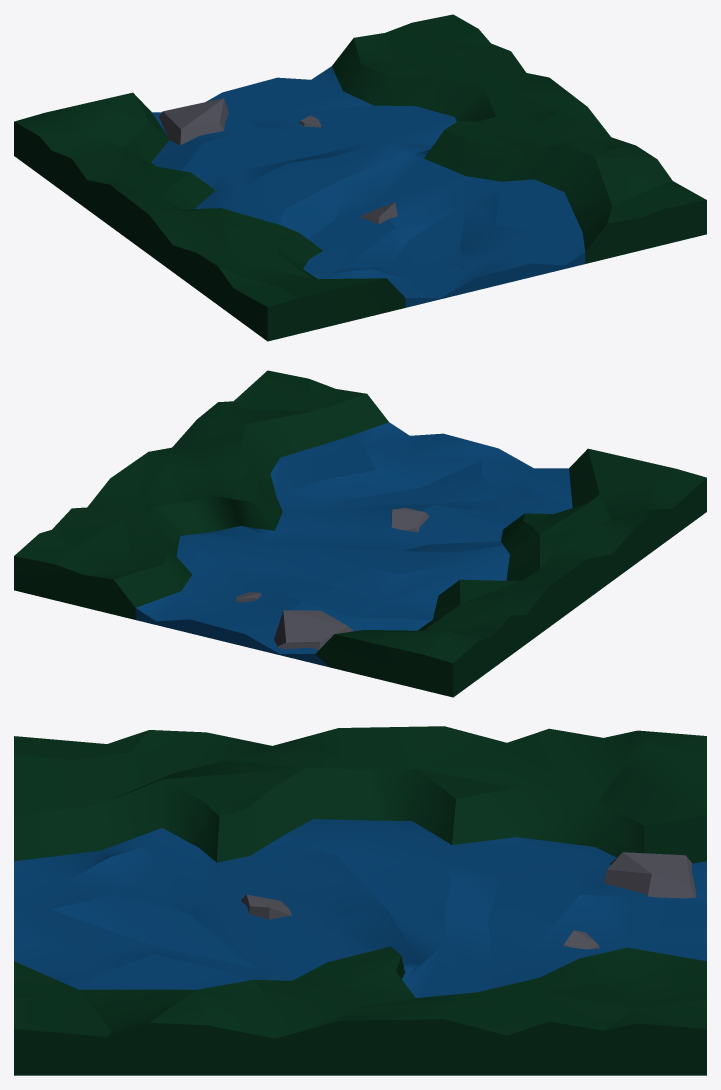
File: Water_River_V.fbx
The picture shows the model from 3 angles, top to bottom: view 1: azimuth 30°, elevation 25°; view 2: azimuth 150°, elevation 25°; view 3: azimuth 270°, elevation 25°; orthographic projection. The views are drawn at different scales.
Visible parts, largest first — view 1: Water_River_V; view 2: Water_River_V; view 3: Water_River_V.
Boxes of the visible parts, box(x1,y1,x2,y2) form: Water_River_V: box(14, 14, 706, 341); Water_River_V: box(14, 370, 706, 697); Water_River_V: box(14, 726, 706, 1075).
Size of the model in its own units: 147 by 13.97 by 147.
